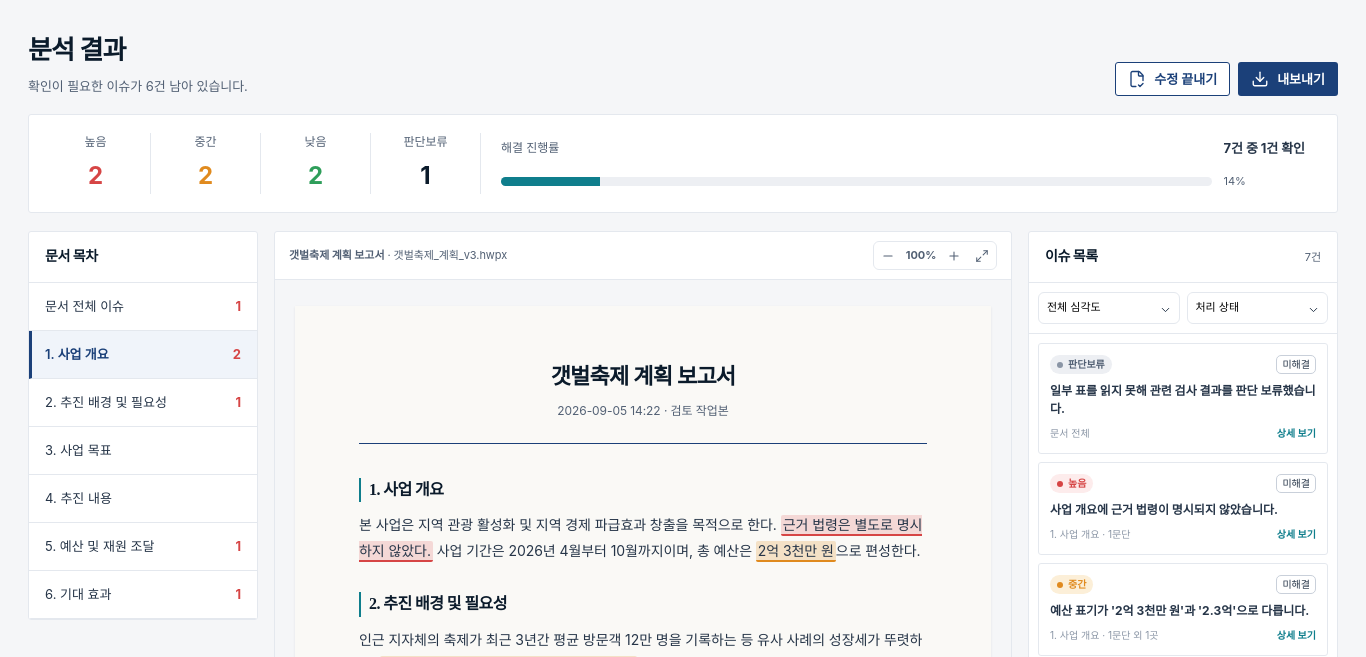
Scenario: ResultPage document view › 다운로드 중에는 버튼을 비활성화하고 메뉴 하단에 진행 상태를 표시한다
Click the button "내보내기".
click(1288, 79)  # box [1238,62,1338,96]
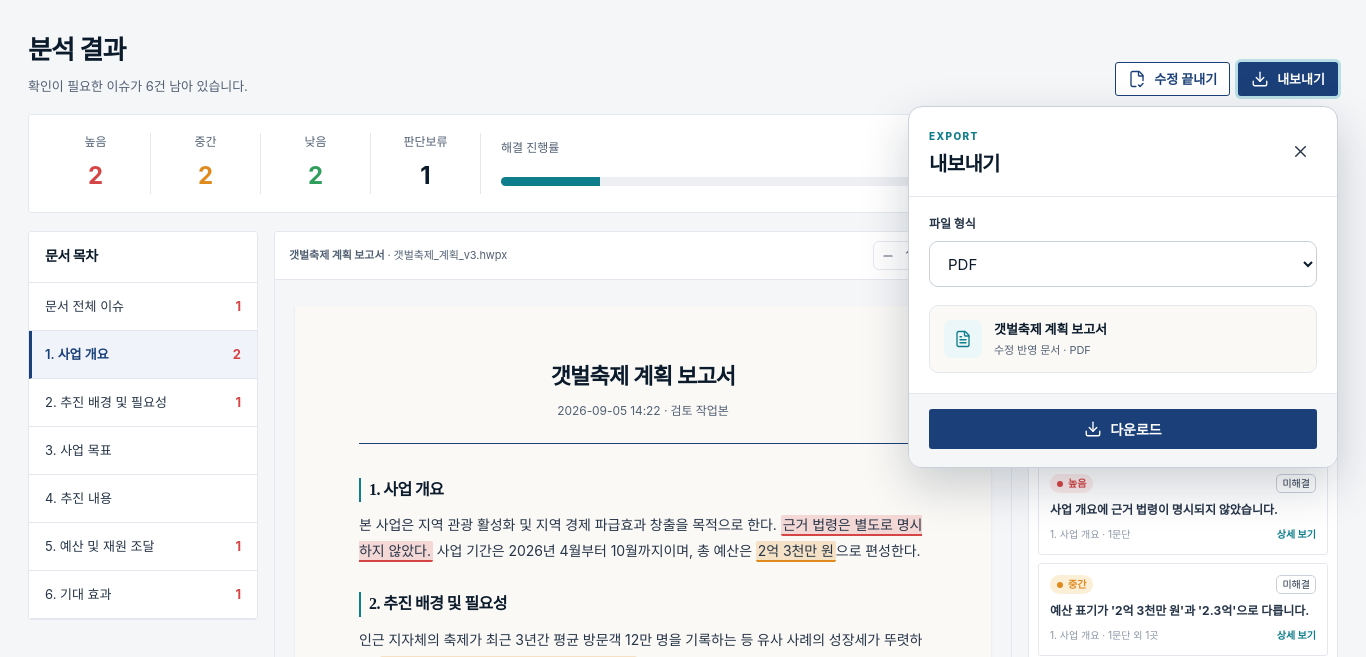
Click the button "다운로드".
click(1123, 430)  # box [929,410,1317,450]
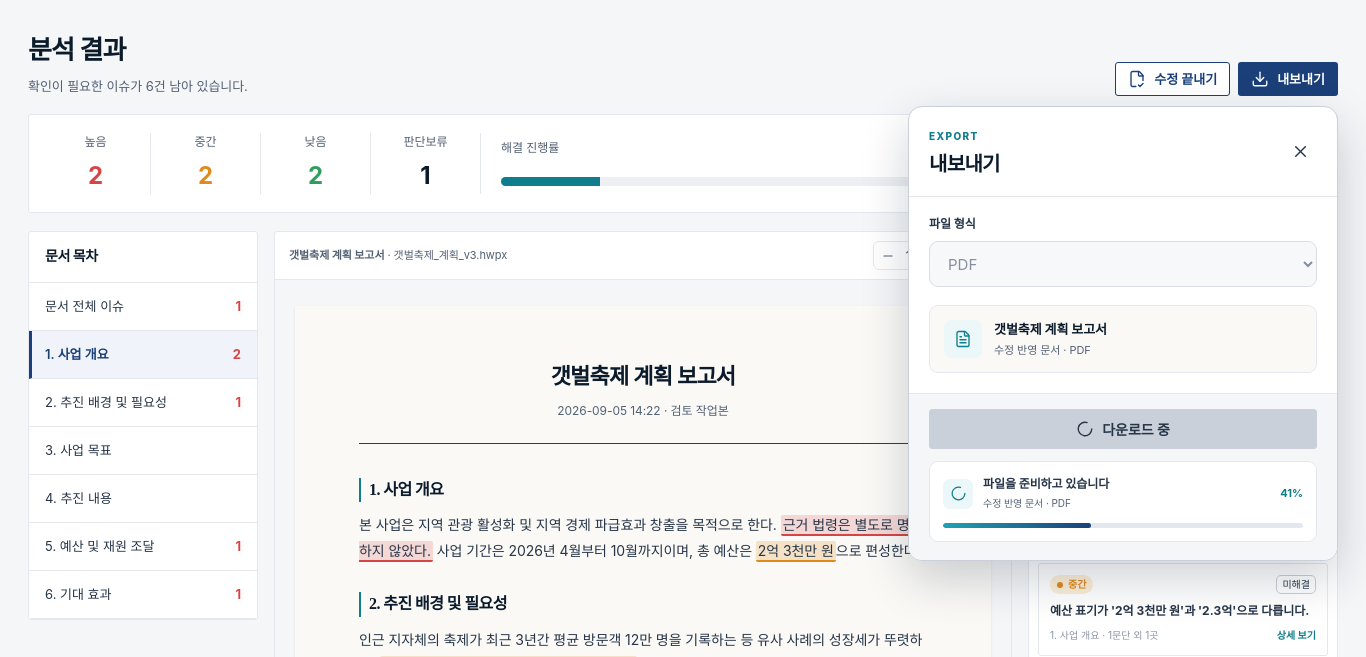
Check: the button "다운로드 중" is disabled, box [929,410,1317,450]
Check: the text "파일을 준비하고 있습니다" is shown, box [983,476,1109,492]
Check: the progress indicator named "다운로드 진행률" is shown, box [943,523,1303,528]
